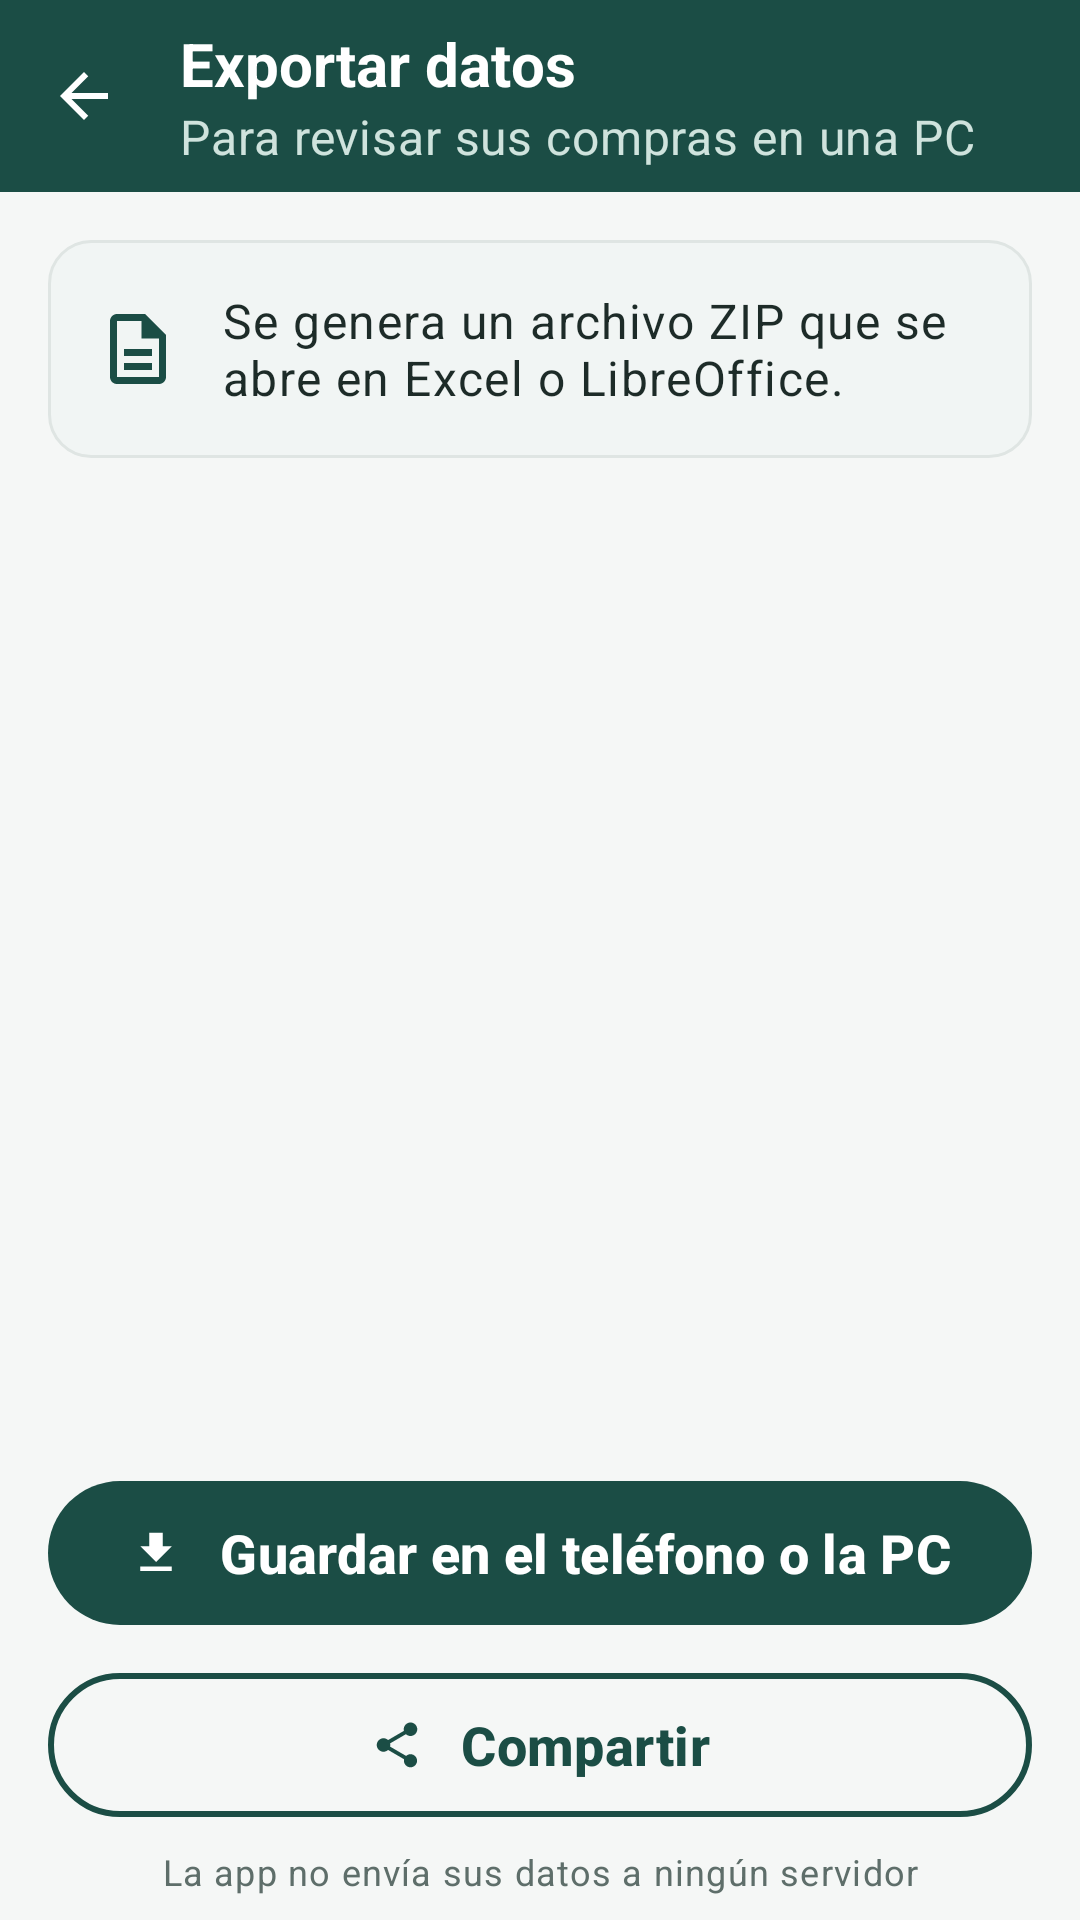

Screen size 1080x1920. Icon name, then its center in pixels as (x,y):
documento: (138,349)
